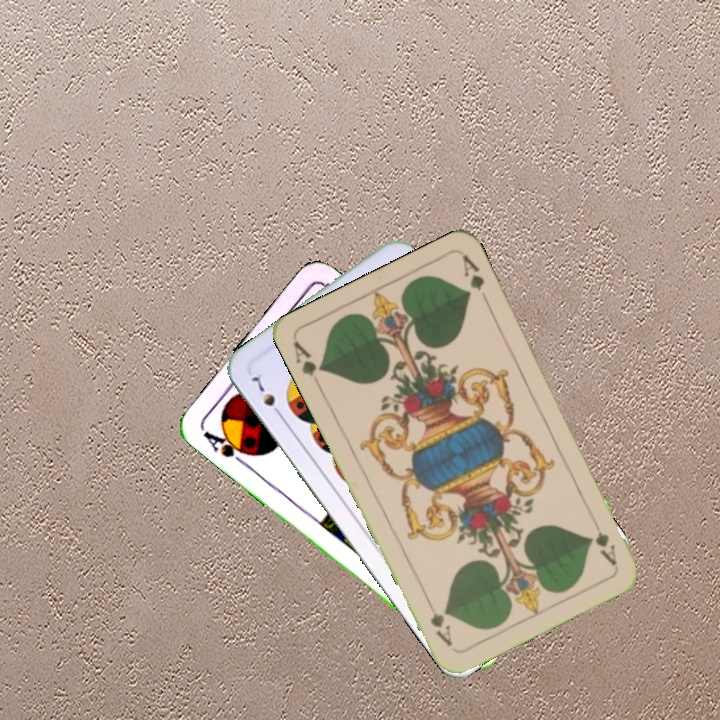GA: (289, 337, 327, 392), (590, 513, 620, 568)
S7: (247, 369, 286, 421)
SA: (199, 424, 255, 468)
